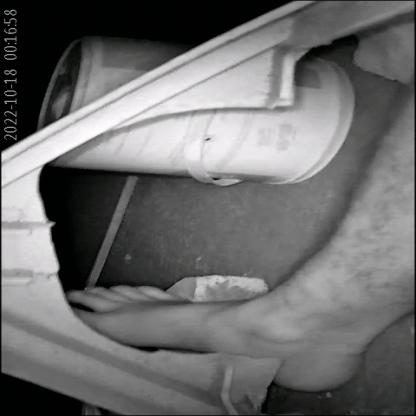leg: (52, 143, 416, 403)
